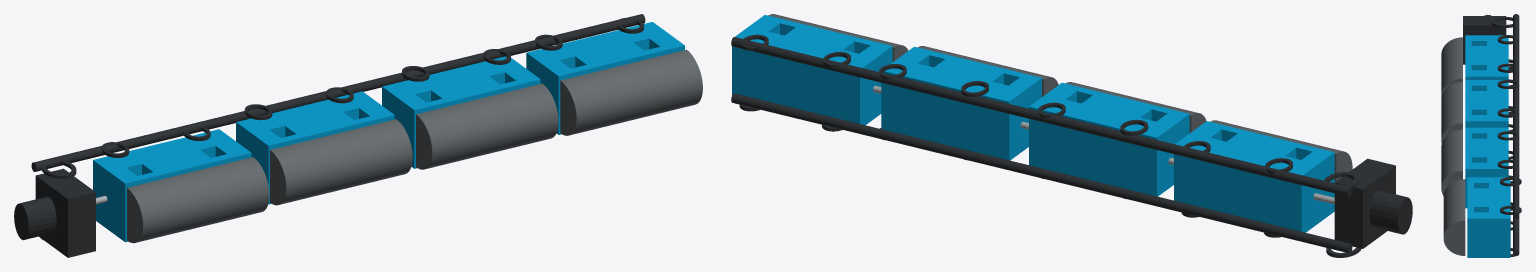
Rendered from tinker.obj.
3 renders of one model, left to right at view 1: azimuth 30°, elevation 25°; view 2: azimuth 150°, elevation 25°; view 3: azimuth 270°, elevation 25°, orthographic. The views are drawn at different scales.
Parts seen in each view (by area): view 1: group_0_6383466, group_0_40919, group_0_2829873; view 2: group_0_40919, group_0_2829873, group_0_6383466; view 3: group_0_40919, group_0_6383466, group_0_2829873.
Part boxes in pixels (x1,y1,x2,y2): group_0_6383466: (127,49,702,243); group_0_40919: (93,22,684,242); group_0_2829873: (14,14,645,257); group_0_40919: (732,15,1334,232); group_0_2829873: (731,34,1412,257); group_0_6383466: (768,14,1352,182); group_0_40919: (1465,35,1510,257); group_0_6383466: (1441,37,1465,255); group_0_2829873: (1463,14,1521,256).
Bounding box in the file's own units: 231 × 25 × 37.
